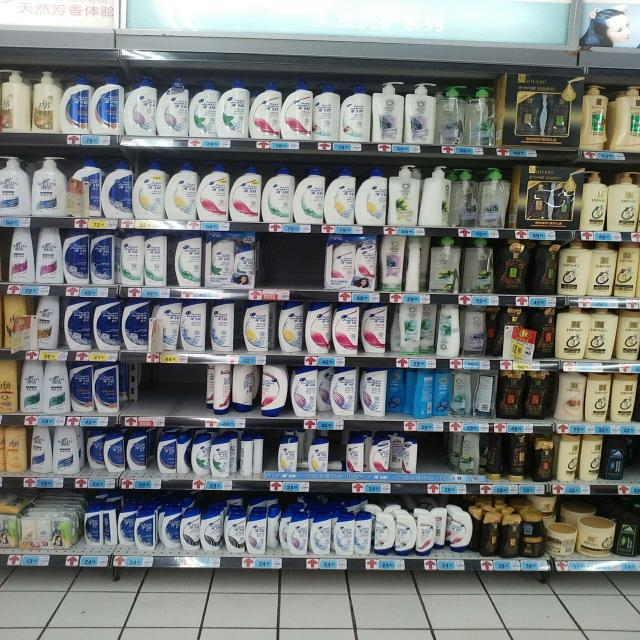void: (259, 233, 318, 301), (134, 359, 168, 431), (422, 434, 456, 501), (173, 364, 206, 428)
